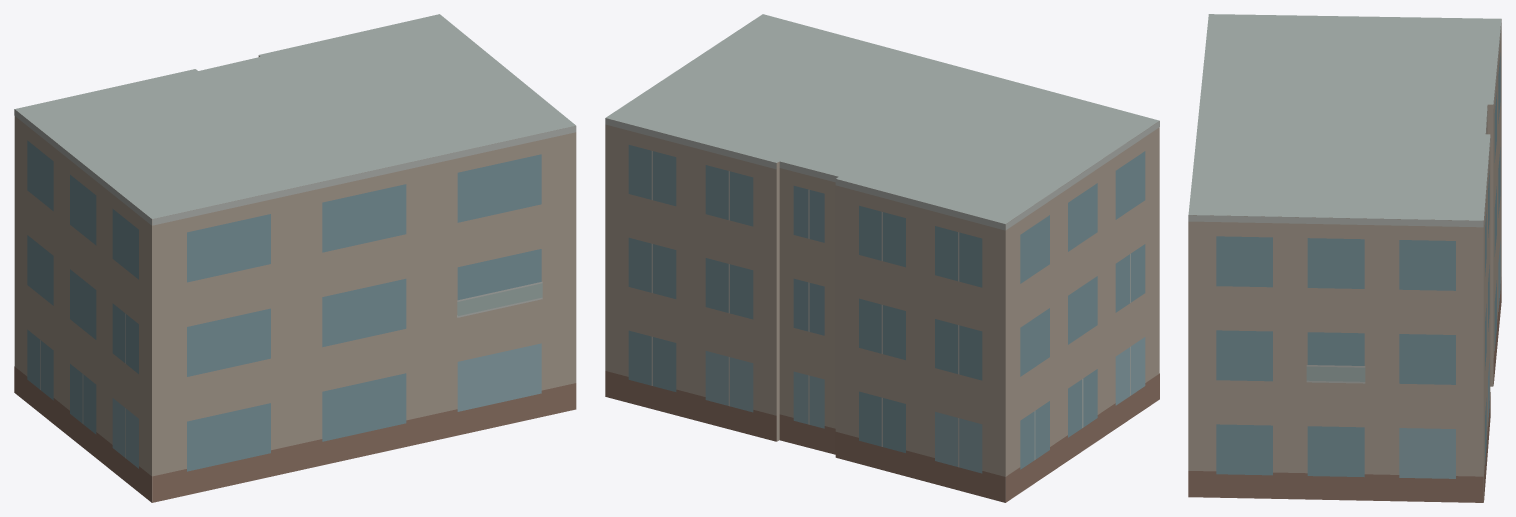
Rendered from survey-upis-32839885.glb.
The picture shows the model from 3 angles, left to right: view 1: azimuth 30°, elevation 25°; view 2: azimuth 150°, elevation 25°; view 3: azimuth 270°, elevation 25°; orthographic projection.
Visible parts, largest first — view 1: survey-upis-32839885.tmp; view 2: survey-upis-32839885.tmp; view 3: survey-upis-32839885.tmp.
Boxes of the visible parts, bbox=[...] form: survey-upis-32839885.tmp: bbox=[14, 14, 576, 502]; survey-upis-32839885.tmp: bbox=[605, 14, 1159, 502]; survey-upis-32839885.tmp: bbox=[1188, 14, 1501, 502].
Size of the model in its own units: 16.51 by 10.5 by 10.57.
